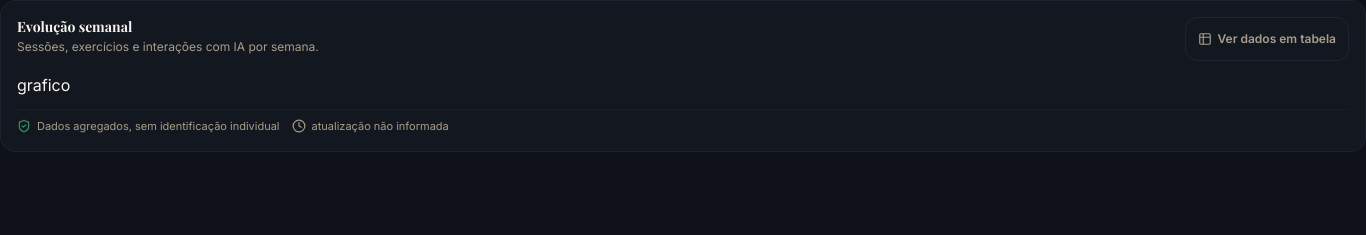
ChartFrame (contrato §9 — gráfico acessível) › oferece tabela alternativa com os mesmos dados
Click the button "Ver dados em tabela".
click(1267, 39)  # box 1185,17 -> 1349,61
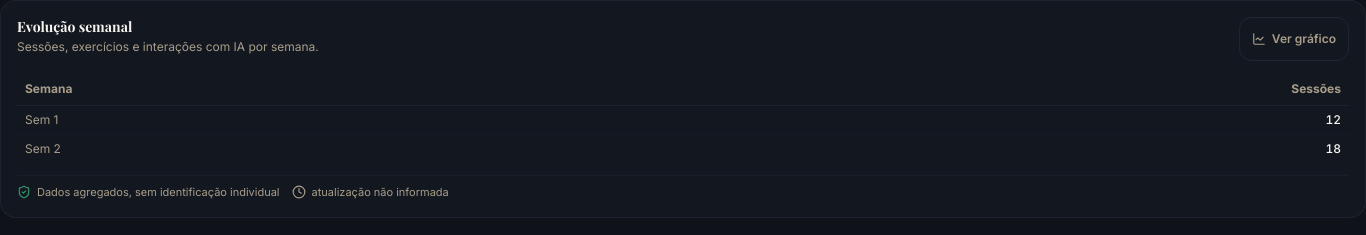
expect the table is shown: met, box 17,73 -> 1349,163
expect the column heading "Semana" is shown: met, box 17,73 -> 671,106
expect the cell "18" is shown: met, box 671,134 -> 1349,163
